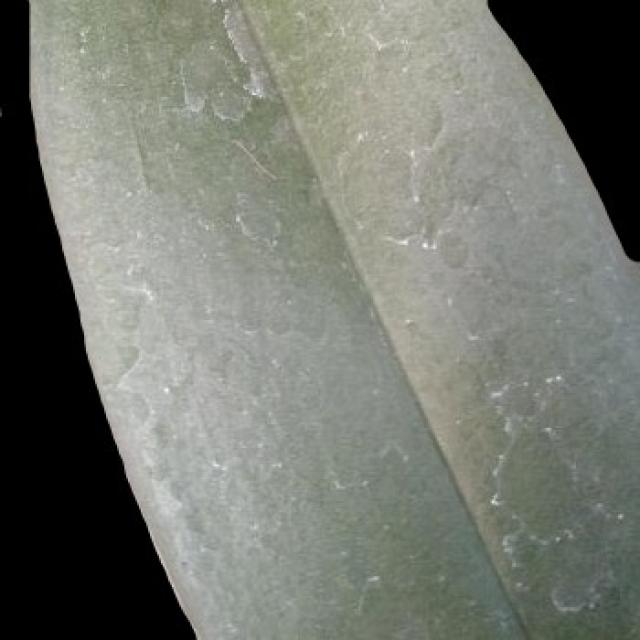mite: (485, 0, 638, 267), (437, 229, 470, 269), (0, 93, 18, 126), (0, 99, 5, 123)
spots: (22, 0, 638, 638)
